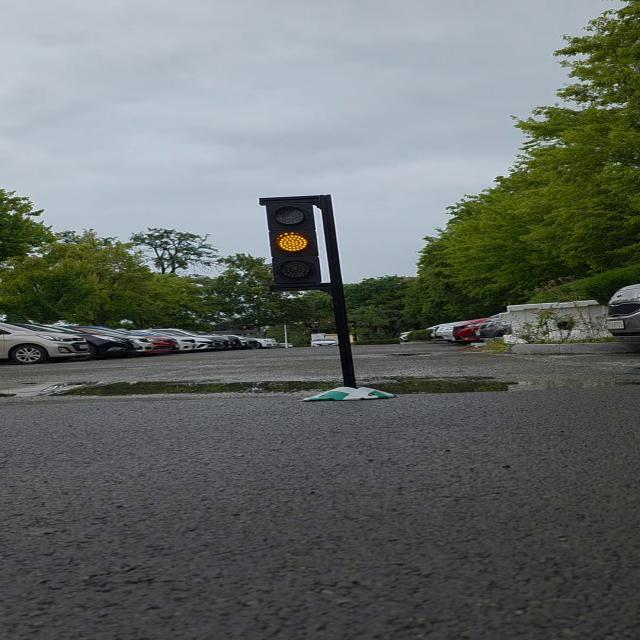yellow: (264, 203, 327, 289)
